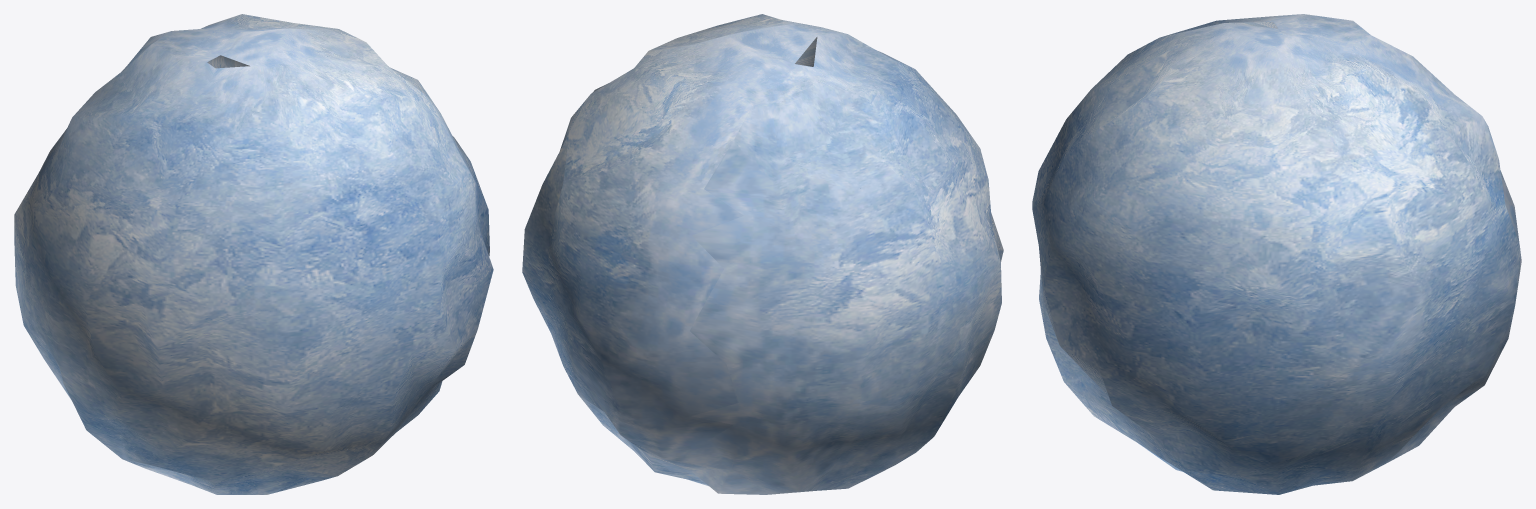
The model's file is Tusk_Snowball.fbx.
3 renders of one model, left to right at view 1: azimuth 30°, elevation 25°; view 2: azimuth 150°, elevation 25°; view 3: azimuth 270°, elevation 25°, orthographic. The views are drawn at different scales.
Parts seen in each view (by area): view 1: tusk_snowball; view 2: tusk_snowball; view 3: tusk_snowball.
Boxes of the visible parts, left/top/right/bottom form: tusk_snowball: left=14, top=14, right=493, bottom=494; tusk_snowball: left=522, top=14, right=1003, bottom=494; tusk_snowball: left=1032, top=14, right=1521, bottom=494.
Size of the model in its own units: 186 by 191 by 189.
